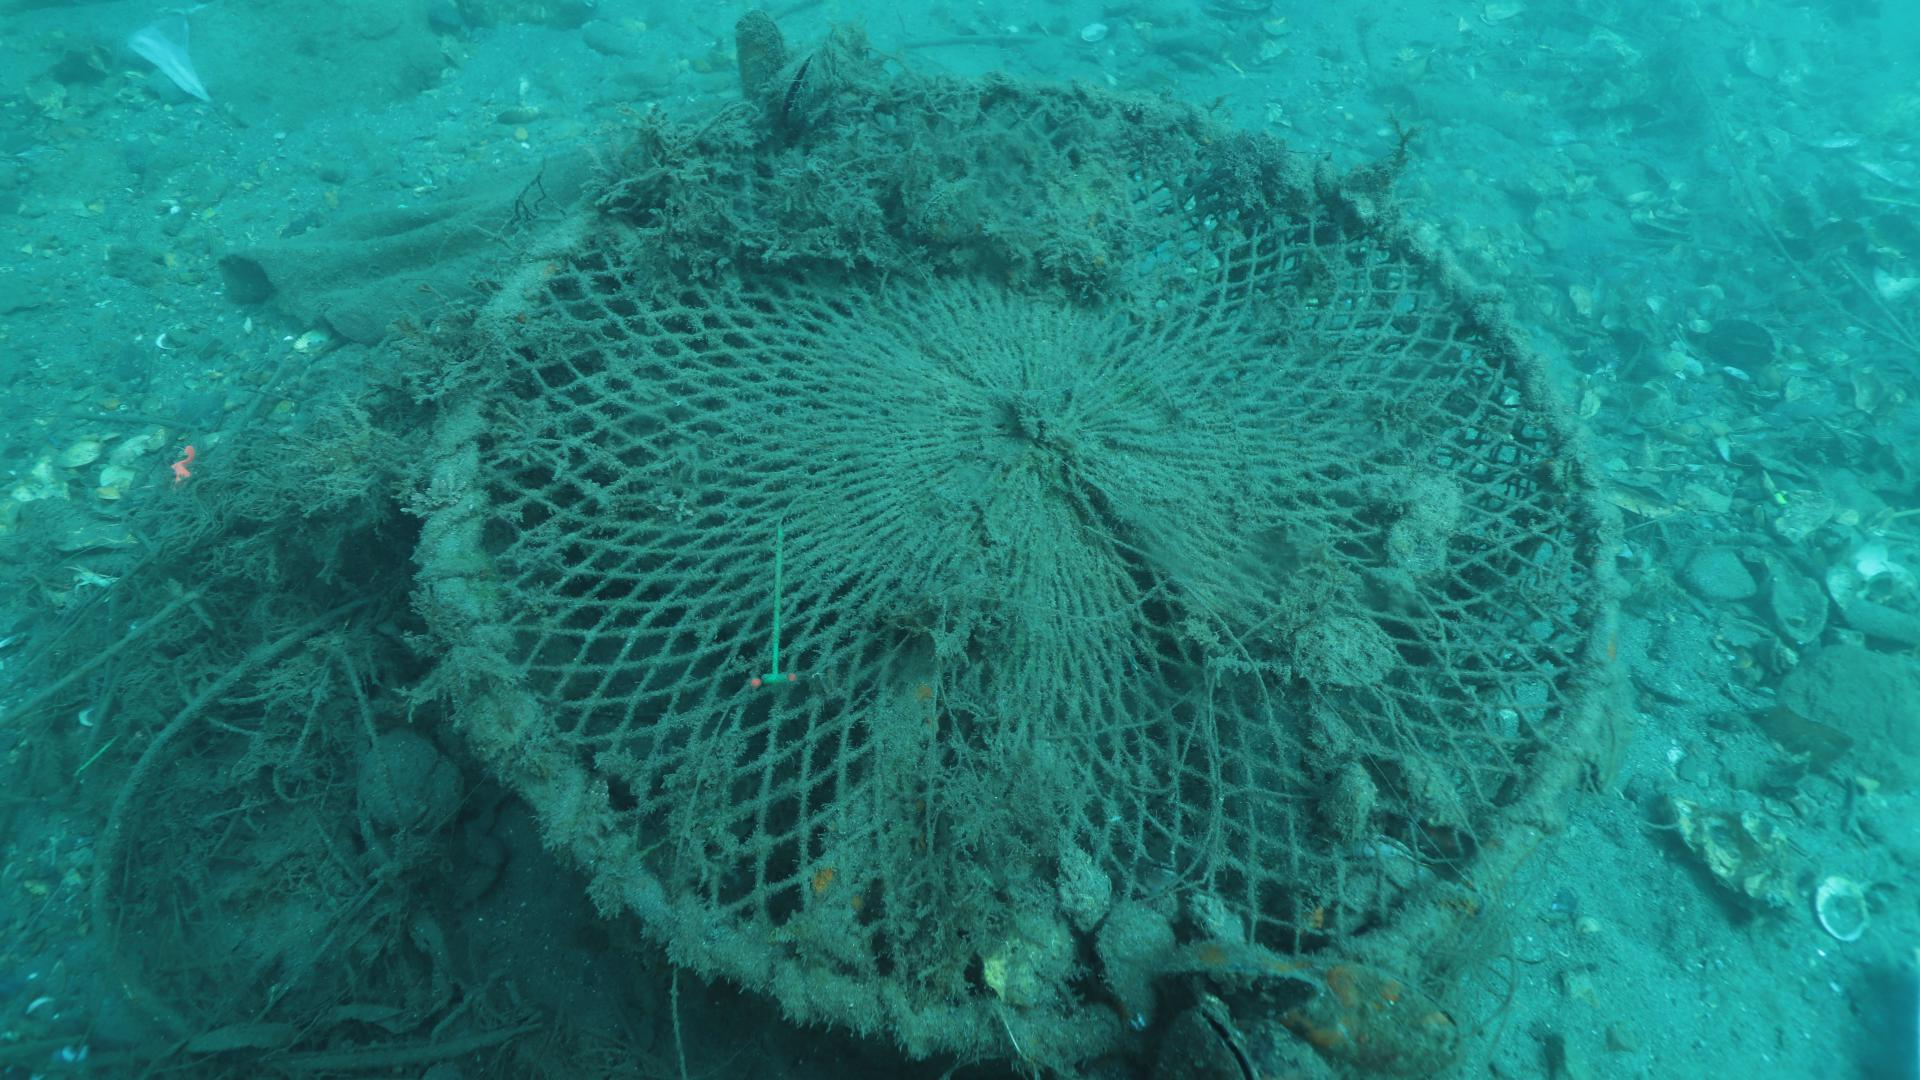circular fish trap: (396, 69, 1636, 1080)
